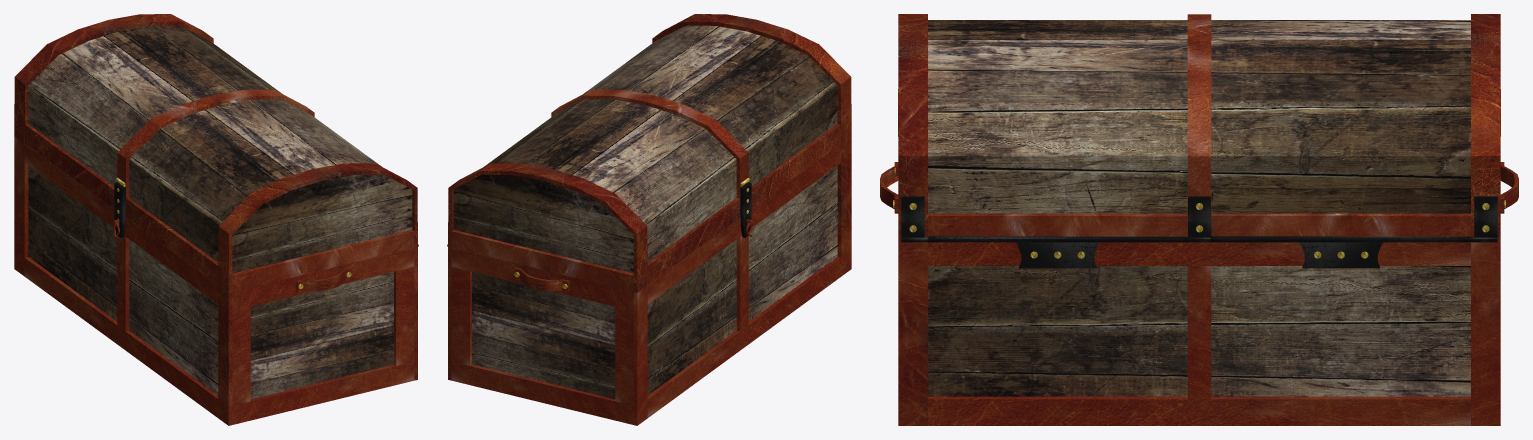
Rendered from coffre.glb.
The picture shows the model from 3 angles, left to right: view 1: azimuth 30°, elevation 25°; view 2: azimuth 150°, elevation 25°; view 3: azimuth 270°, elevation 25°; orthographic projection. The views are drawn at different scales.
Visible parts, largest first — view 1: haut_2, bas_3, taque_1; view 2: haut_2, bas_3, taque_1; view 3: haut_2, bas_3.
Boxes of the visible parts, bbox=[...] form: haut_2: bbox=[14, 14, 418, 292]; bas_3: bbox=[14, 136, 417, 425]; taque_1: bbox=[114, 177, 125, 237]; haut_2: bbox=[447, 14, 851, 292]; bas_3: bbox=[448, 136, 851, 425]; taque_1: bbox=[740, 177, 751, 237]; haut_2: bbox=[898, 14, 1500, 242]; bas_3: bbox=[880, 162, 1518, 425].
Bounding box in the file's own units: 1.36 × 1.49 × 2.7.
Materials: 5 (5 with a texture image).
